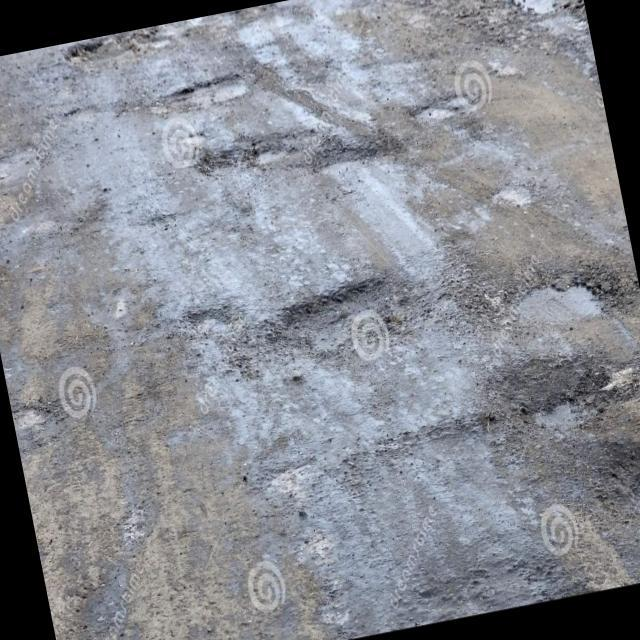Pothole: (268, 276, 399, 366), (503, 254, 619, 334), (514, 371, 600, 448), (60, 24, 180, 76), (211, 121, 298, 180), (316, 134, 398, 185), (604, 434, 640, 529), (175, 72, 248, 115), (190, 300, 237, 342), (415, 102, 458, 126)
